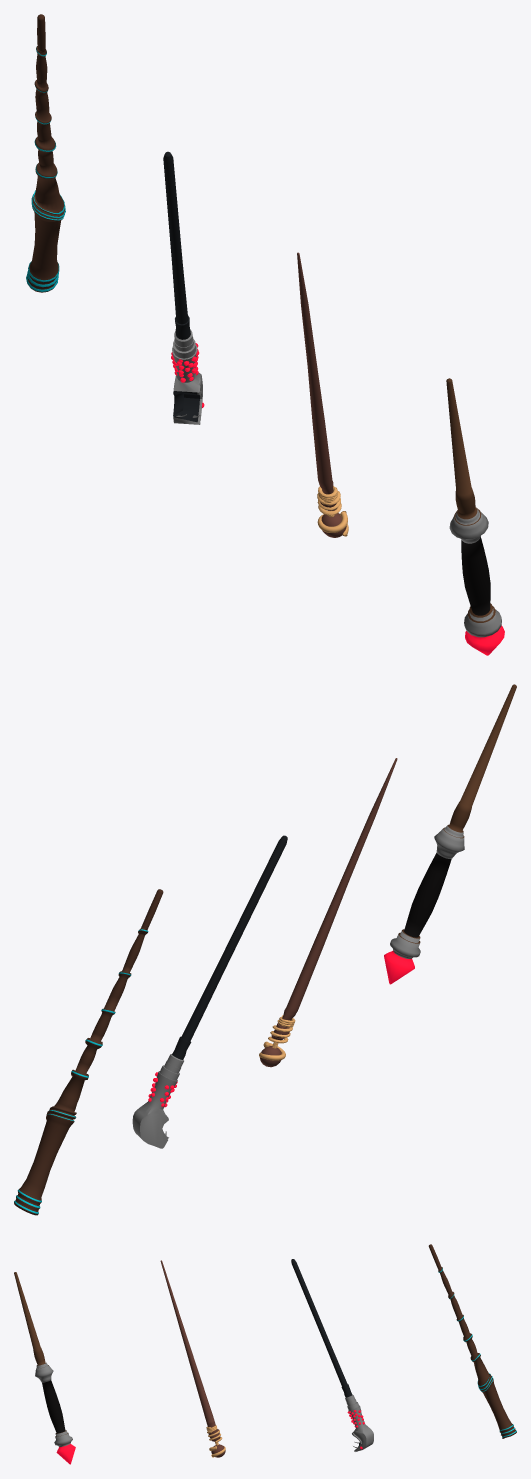
File: WandsSet1.fbx
3 renders of one model, top to bottom at view 1: azimuth 30°, elevation 25°; view 2: azimuth 150°, elevation 25°; view 3: azimuth 270°, elevation 25°, orthographic. The views are drawn at different scales.
Parts seen in each view (by area): view 1: Steel Wand, WIllaw Wand, Platium Wand, Copper Wand; view 2: Steel Wand, WIllaw Wand, Platium Wand, Copper Wand; view 3: Steel Wand, WIllaw Wand, Platium Wand, Copper Wand.
Part boxes in pixels (x1,y1,x2,y2): Steel Wand: (446,378,504,655); WIllaw Wand: (26,14,65,292); Platium Wand: (163,151,204,424); Copper Wand: (297,252,348,537); Steel Wand: (384,684,516,984); WIllaw Wand: (14,889,163,1215); Platium Wand: (132,835,287,1148); Copper Wand: (259,758,397,1067); Steel Wand: (14,1272,75,1464); WIllaw Wand: (428,1244,516,1438); Platium Wand: (291,1259,373,1451); Copper Wand: (160,1260,225,1457).
Bounding box in the file's own units: 73.94 × 254 × 583.
